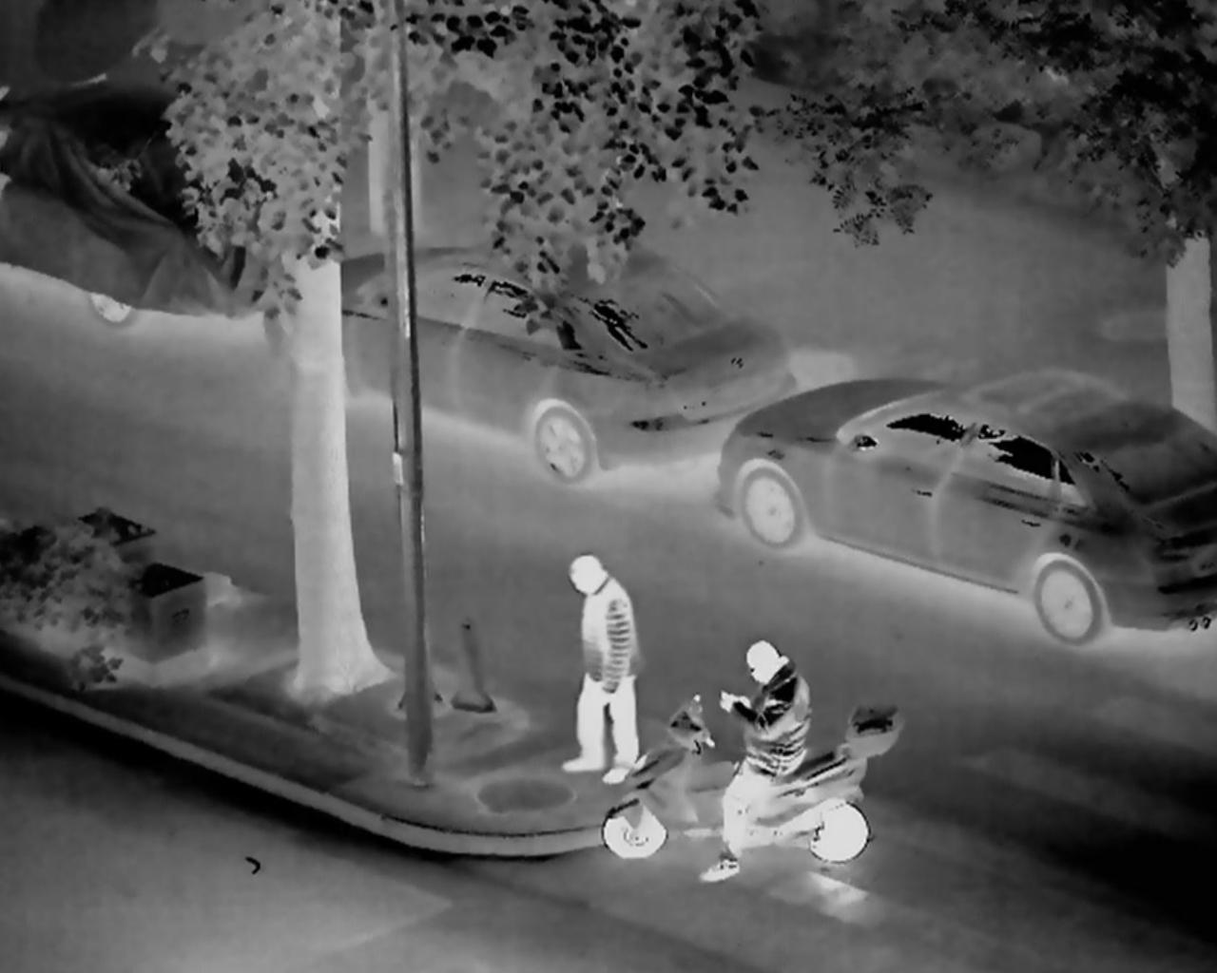person: (704, 630, 821, 894), (549, 547, 652, 784)
